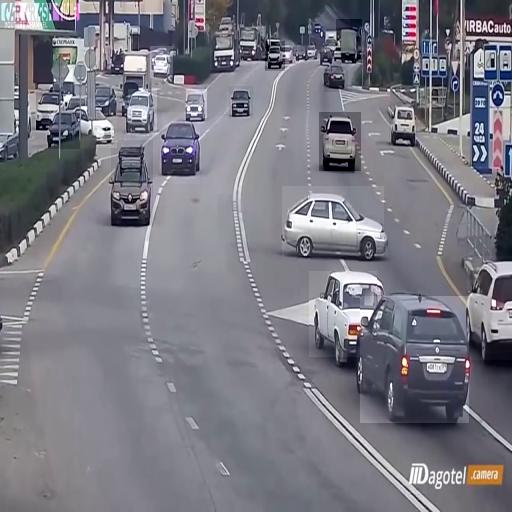小汽车: (360, 296, 469, 423), (282, 186, 384, 256), (309, 272, 377, 358), (467, 256, 512, 360), (111, 140, 153, 226), (162, 112, 200, 184), (319, 112, 361, 171), (81, 99, 117, 148), (48, 103, 80, 149), (128, 89, 157, 134), (389, 102, 418, 146), (210, 26, 238, 70), (336, 19, 362, 63), (36, 90, 63, 130), (324, 58, 348, 92), (229, 86, 253, 119), (150, 46, 173, 78), (186, 89, 207, 118), (265, 41, 285, 71)
